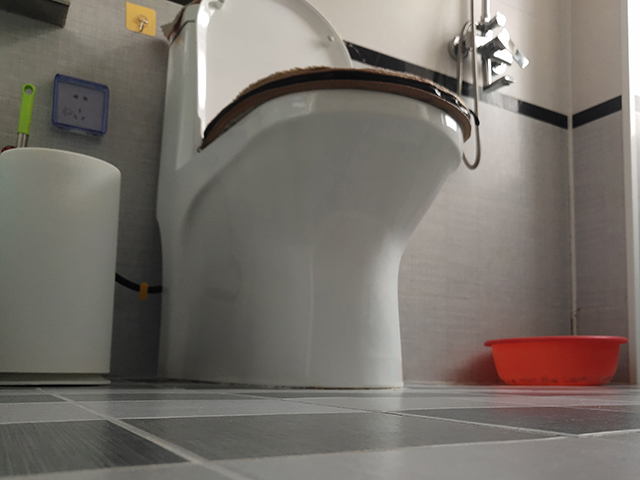closestool: (153, 1, 475, 391)
trashcan: (1, 145, 123, 389)
